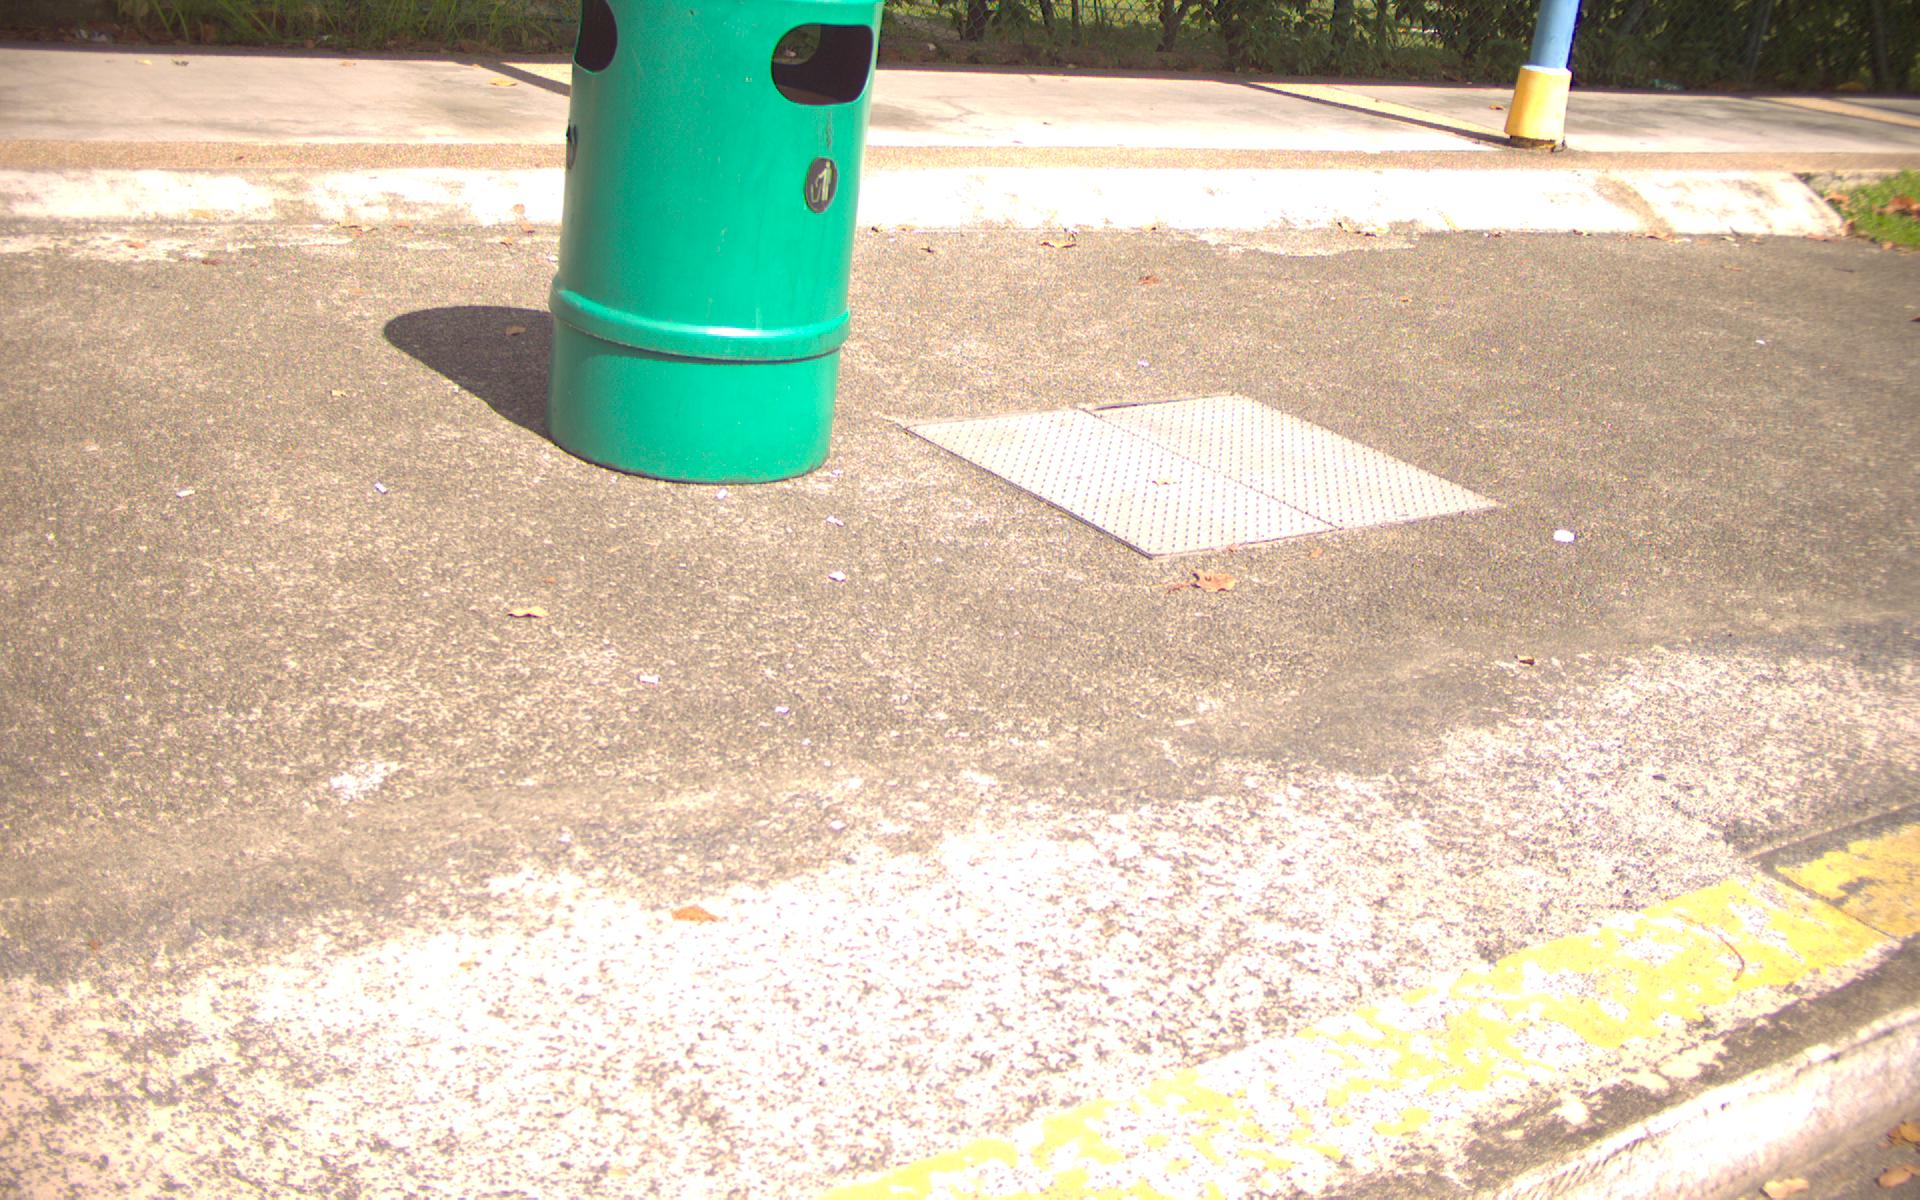dustbin_empty: (523, 8, 910, 505)
pathway_low: (95, 592, 1919, 1186)
